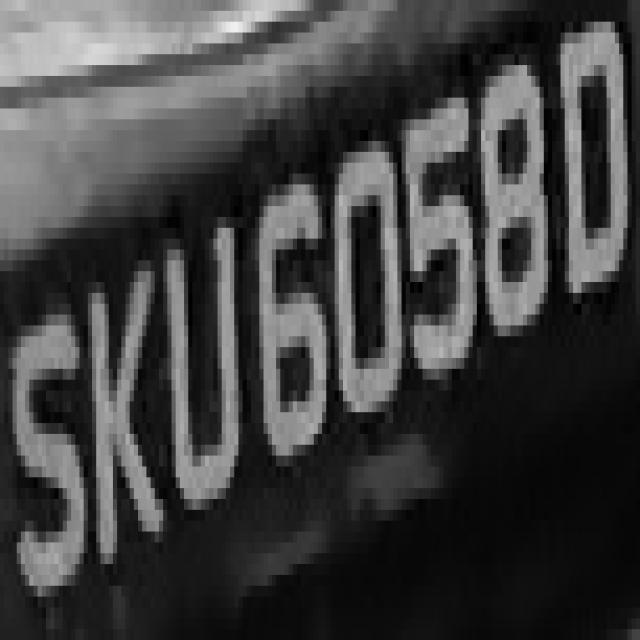0: (326, 130, 406, 456)
5: (393, 98, 481, 423)
6: (251, 152, 330, 499)
8: (468, 44, 560, 412)
D: (560, 0, 640, 325)
K: (76, 249, 168, 575)
S: (12, 282, 88, 607)
U: (155, 206, 238, 521)
